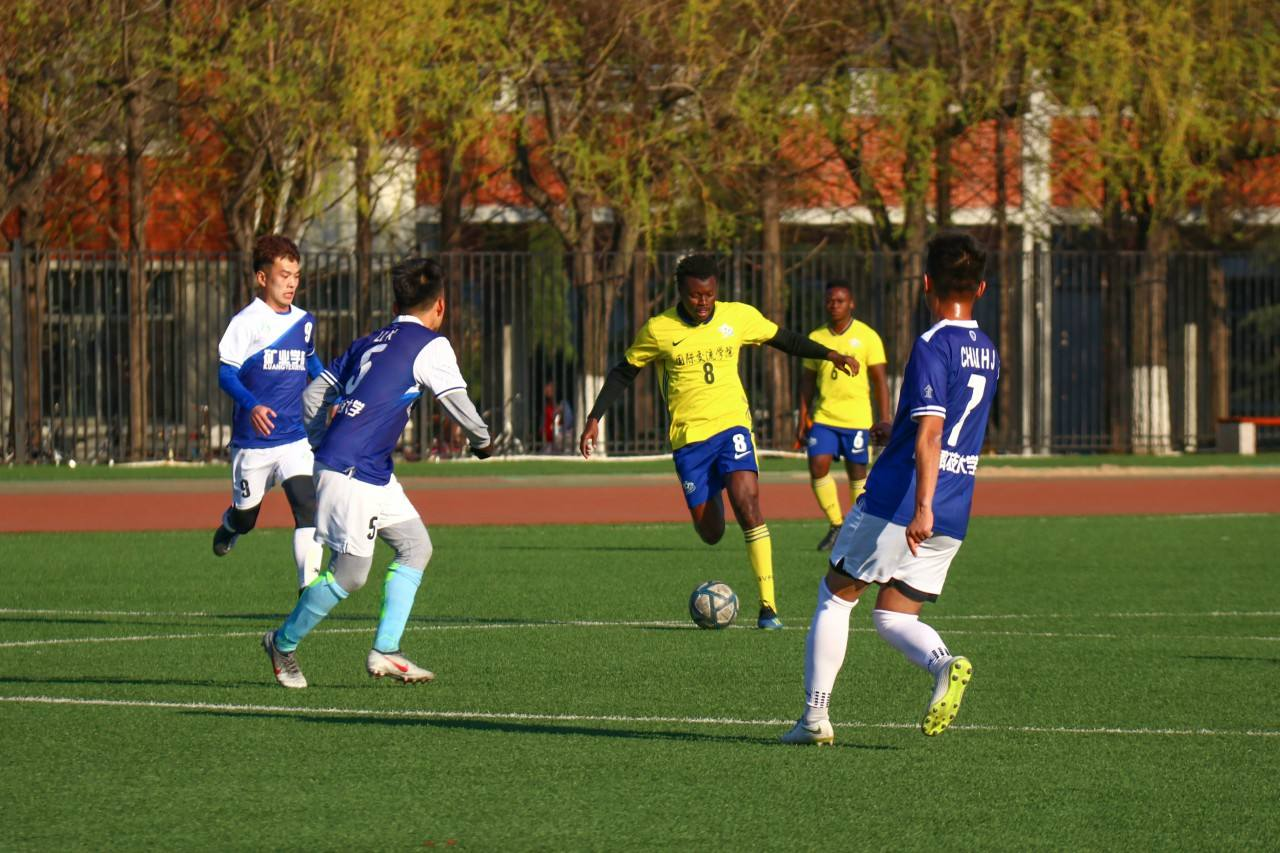football: (687, 579, 743, 631)
